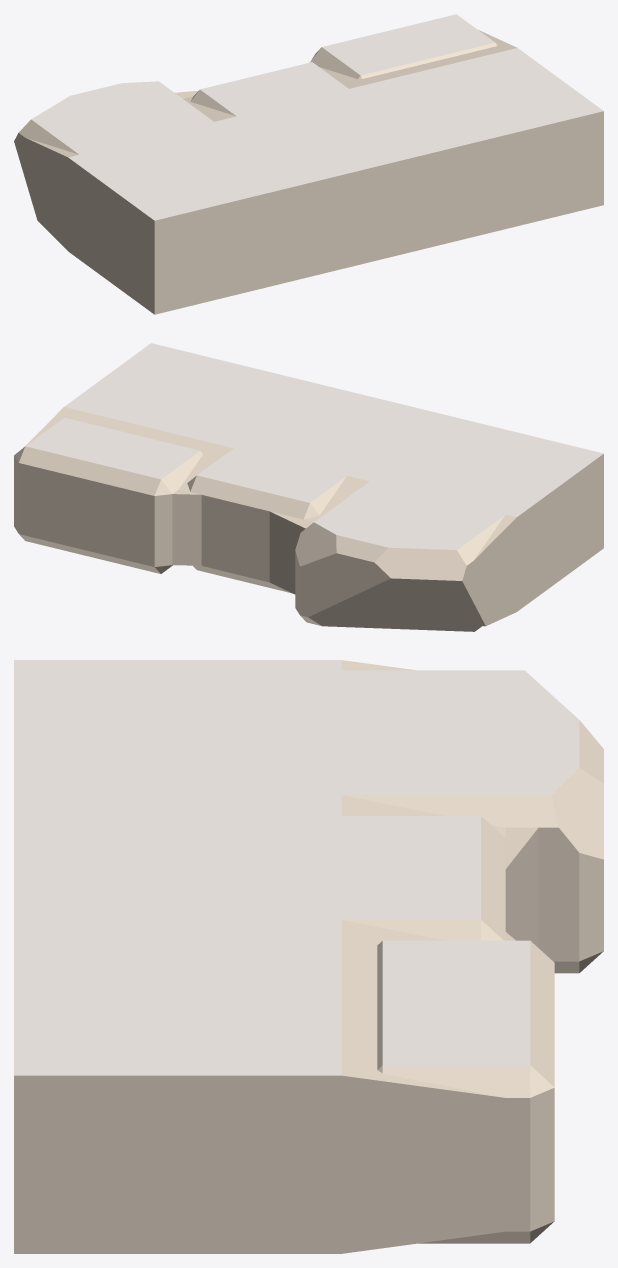
Rendered from opengameart-modular-temple-3d-models-2_22.glb.
The picture shows the model from 3 angles, top to bottom: view 1: azimuth 30°, elevation 25°; view 2: azimuth 150°, elevation 25°; view 3: azimuth 270°, elevation 25°; orthographic projection. The views are drawn at different scales.
Visible parts, largest first — view 1: object1; view 2: object1; view 3: object1.
Boxes of the visible parts, x1=… form: object1: x1=14, y1=14, x2=603, y2=314; object1: x1=14, y1=343, x2=603, y2=631; object1: x1=14, y1=660, x2=603, y2=1253.
Bounding box in the file's own units: 1 × 0.2 × 0.6.
